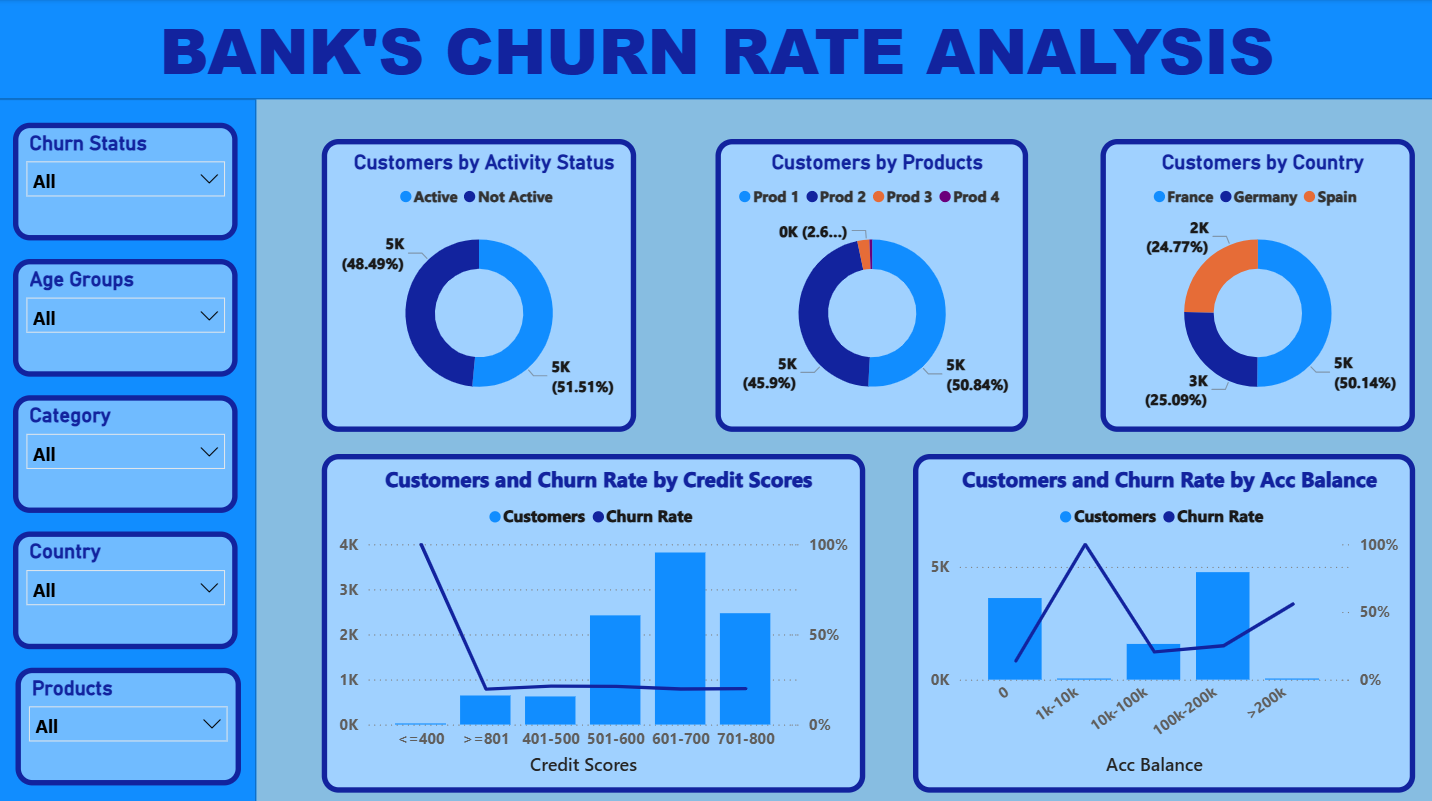

The page's visual inventory and layout, read from the dashboard file:
{"tool":"powerbi","page":{"name":"Page 2","canvas":[1280,720],"ordinal":1},"visuals":[{"type":"donutChart","fields":{"Y":["Customer Data.No.of Customers"],"Category":["Customer Data.Activity Status"]},"box":[288.3,124.3,279.9,260.6],"z":0},{"type":"shape","box":[0,89.3,230,631],"z":1000},{"type":"shape","box":[0,0,1280.3,89.3],"z":2000},{"type":"textbox","box":[0,0,1280.3,89.3],"z":3000},{"type":"lineClusteredColumnComboChart","fields":{"Y":["Customer Data.Customers"],"Y2":["Customer Data.Churn Rate"],"Category":["Acc Balance Groups.Acc Balance"]},"box":[814.3,405.4,447.6,301.6],"z":4000},{"type":"donutChart","fields":{"Y":["Customer Data.No.of Customers"],"Category":["Customer Data.Products"]},"box":[639.4,124.3,278.7,260.6],"z":5000},{"type":"lineClusteredColumnComboChart","fields":{"Y":["Customer Data.Customers"],"Y2":["Customer Data.Churn Rate"],"Category":["Credit Score Groups.Credit Scores"]},"box":[288.3,405.4,483.8,301.6],"z":6000},{"type":"slicer","fields":{"Values":["Customer Data.Churn Status"]},"box":[13.3,109.8,200.3,105],"z":7000,"group":"g1"},{"type":"donutChart","fields":{"Y":["Customer Data.No.of Customers"],"Category":["Customer Data.Country"]},"box":[982,124.3,279.9,260.6],"z":7000},{"type":"group","id":"g1","title":"Group 1","box":[13.3,109.8,202.3,590.2],"z":8000},{"type":"slicer","fields":{"Values":["Customer Data.Age Groups"]},"box":[13.3,231.1,200.3,105],"z":8000,"group":"g1"},{"type":"slicer","fields":{"Values":["Customer Data.Country"]},"box":[13.3,473.7,200.3,105],"z":9000,"group":"g1"},{"type":"slicer","fields":{"Values":["Customer Data.Products"]},"box":[15,595,200.5,105],"z":10000,"group":"g1"},{"type":"slicer","fields":{"Values":["Acc Balance Groups.Category"]},"box":[13.3,352.4,200.3,105],"z":13000,"group":"g1"}]}

Visuals, with their boxes in screenshot pixels (x1, y1, x2, y2), scaled from the page's 1280x720 canvas onto the 1432x801 screenshot:
donutChart - Customer Data.No.of Customers x Customer Data.Activity Status: Rect(323, 138, 636, 428)
shape: Rect(0, 99, 257, 800)
shape: Rect(0, 0, 1431, 99)
textbox: Rect(0, 0, 1431, 99)
lineClusteredColumnComboChart - Customer Data.Customers x Customer Data.Churn Rate: Rect(911, 451, 1412, 787)
donutChart - Customer Data.No.of Customers x Customer Data.Products: Rect(715, 138, 1027, 428)
lineClusteredColumnComboChart - Customer Data.Customers x Customer Data.Churn Rate: Rect(323, 451, 864, 787)
slicer - Customer Data.Churn Status: Rect(15, 122, 239, 239)
donutChart - Customer Data.No.of Customers x Customer Data.Country: Rect(1099, 138, 1412, 428)
"Group 1" group: Rect(15, 122, 241, 779)
slicer - Customer Data.Age Groups: Rect(15, 257, 239, 374)
slicer - Customer Data.Country: Rect(15, 527, 239, 644)
slicer - Customer Data.Products: Rect(17, 662, 241, 779)
slicer - Acc Balance Groups.Category: Rect(15, 392, 239, 509)
